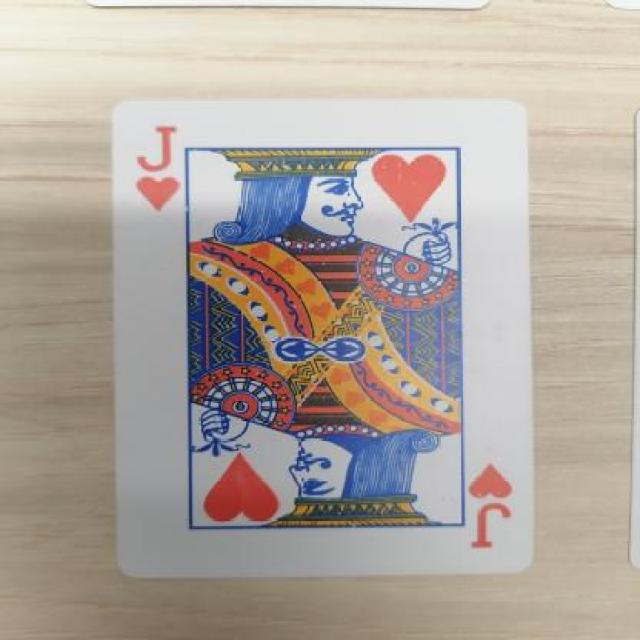JH: (126, 113, 197, 225), (466, 462, 521, 558)
